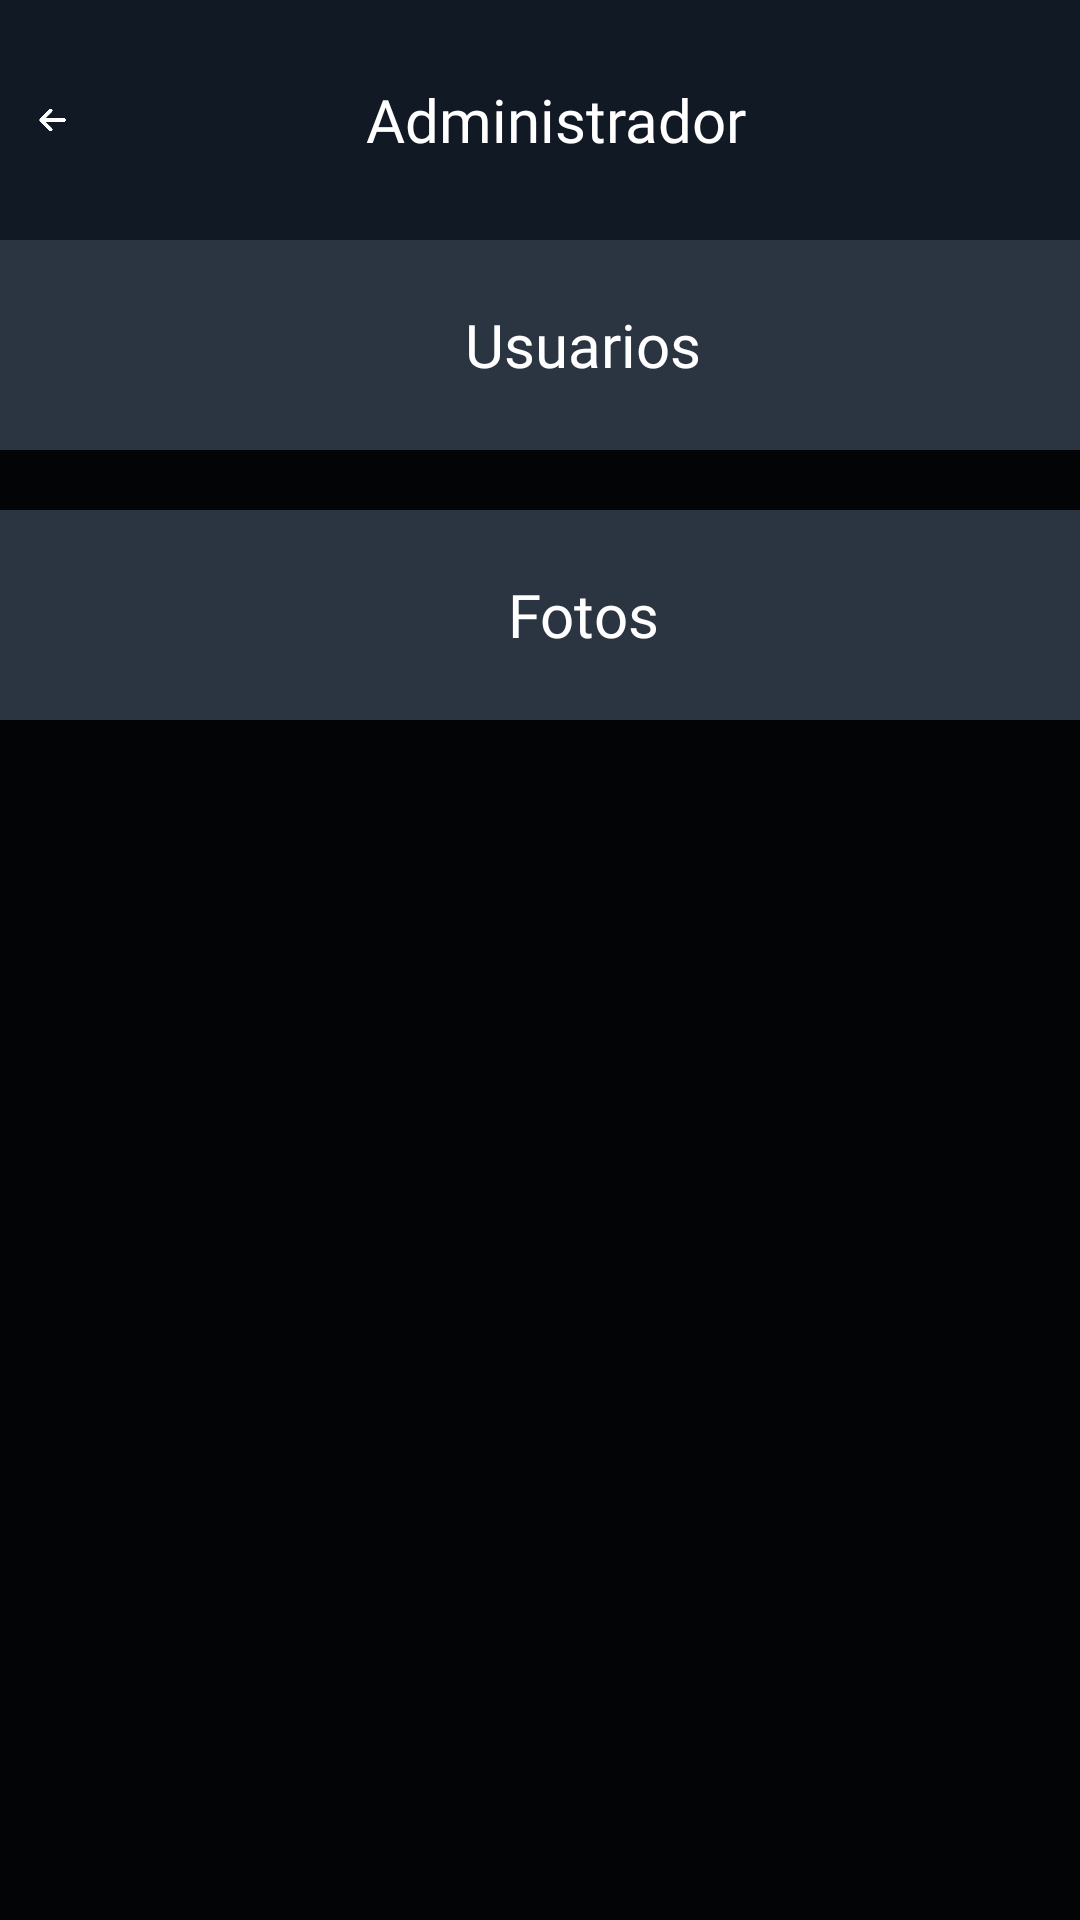

Icons on this 1080*1920 Android screen, each with the point to tap as [x,y]:
flechavolver: [52,120]
